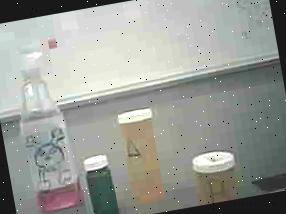Bottle A: (113, 104, 175, 208)
Bottle B: (186, 142, 244, 206)
Bottle C: (81, 150, 123, 214)
hazard: (5, 33, 91, 214)
